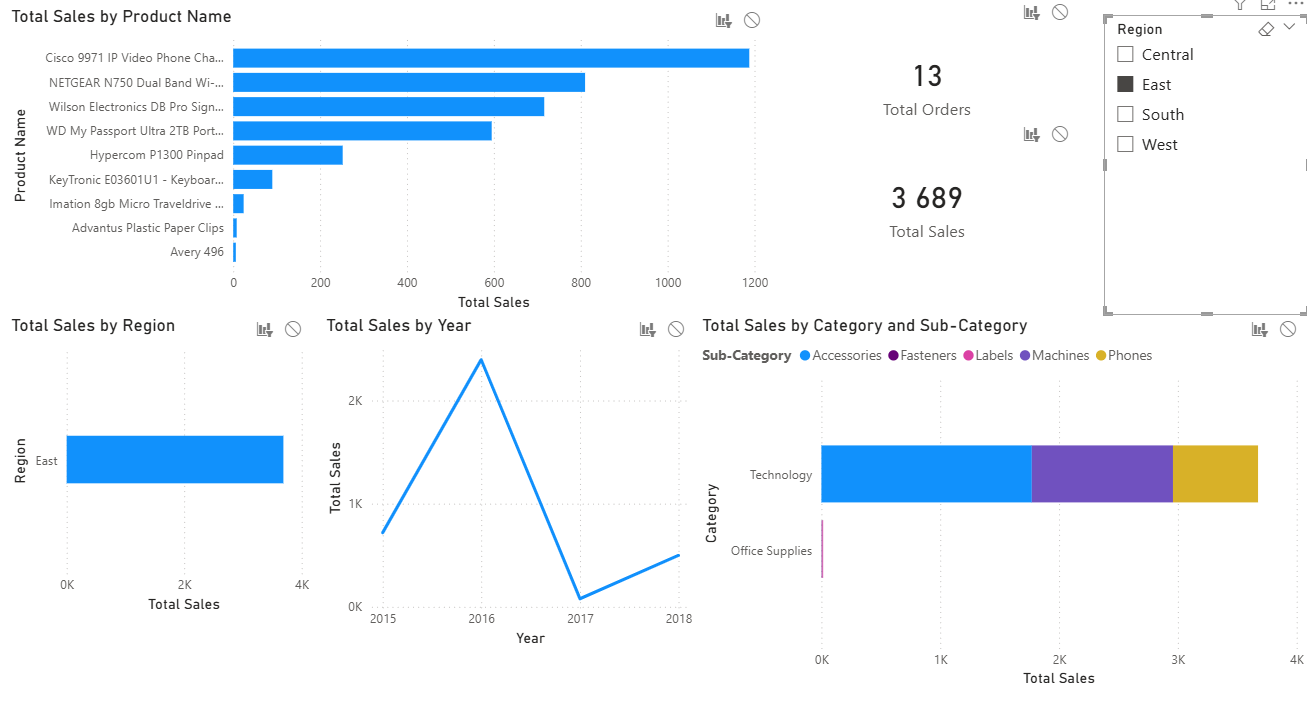

The page's visual inventory and layout, read from the dashboard file:
{"tool":"powerbi","page":{"name":"Page 1","canvas":[1280,720],"ordinal":0},"visuals":[{"type":"card","fields":{"Values":["train (2).Total Orders"]},"box":[758.7,29.2,299.6,118.7],"z":0},{"type":"card","fields":{"Values":["train (2).Total Revenue"]},"box":[758.7,147.8,299.6,118.7],"z":1000},{"type":"lineChart","fields":{"Category":["train (2).Order Date.Variation.Date Hierarchy.Year","train (2).Order Date.Variation.Date Hierarchy.Quarter","train (2).Order Date.Variation.Date Hierarchy.Month","train (2).Order Date.Variation.Date Hierarchy.Day"],"Y":["train (2).Total Revenue"]},"box":[319,313.2,365.7,326.8],"z":2000},{"type":"barChart","fields":{"Category":["train (2).Region"],"Y":["train (2).Total Revenue"]},"box":[12.6,313.2,299.6,293.7],"z":3000},{"type":"barChart","fields":{"Category":["train (2).Product Name"],"Y":["train (2).Total Revenue"]},"box":[12.6,12.6,746,300.5],"z":4000},{"type":"slicer","fields":{"Values":["train (2).Region"]},"box":[1080.6,21.4,199.4,291.8],"z":5000},{"type":"barChart","fields":{"Category":["train (2).Category"],"Y":["train (2).Total Revenue"],"Series":["train (2).Sub-Category"]},"box":[684.7,313.2,595.3,366.7],"z":6000}]}

Visuals, with their boxes on the page's 1280x720 design canvas (x1, y1, x2, y2). These are canvas units, not pixel positions in the 1307x722 screenshot, which may show the page scaled, cropped or inside an application window:
card - train (2).Total Orders: (x1=759, y1=29, x2=1058, y2=148)
card - train (2).Total Revenue: (x1=759, y1=148, x2=1058, y2=266)
lineChart - train (2).Order Date.Variation.Date Hierarchy.Year x train (2).Order Date.Variation.Date Hierarchy.Quarter: (x1=319, y1=313, x2=685, y2=640)
barChart - train (2).Region x train (2).Total Revenue: (x1=13, y1=313, x2=312, y2=607)
barChart - train (2).Product Name x train (2).Total Revenue: (x1=13, y1=13, x2=759, y2=313)
slicer - train (2).Region: (x1=1081, y1=21, x2=1280, y2=313)
barChart - train (2).Category x train (2).Total Revenue: (x1=685, y1=313, x2=1280, y2=680)
